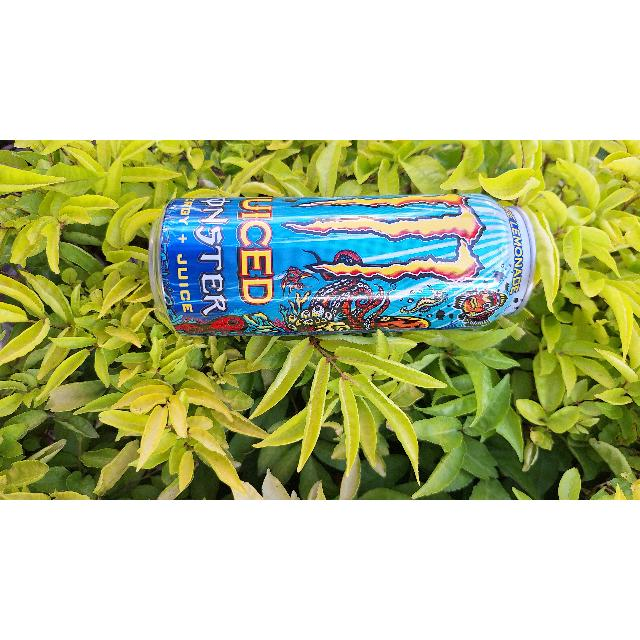Monster Aussie Lemonade: (155, 195, 539, 338)
